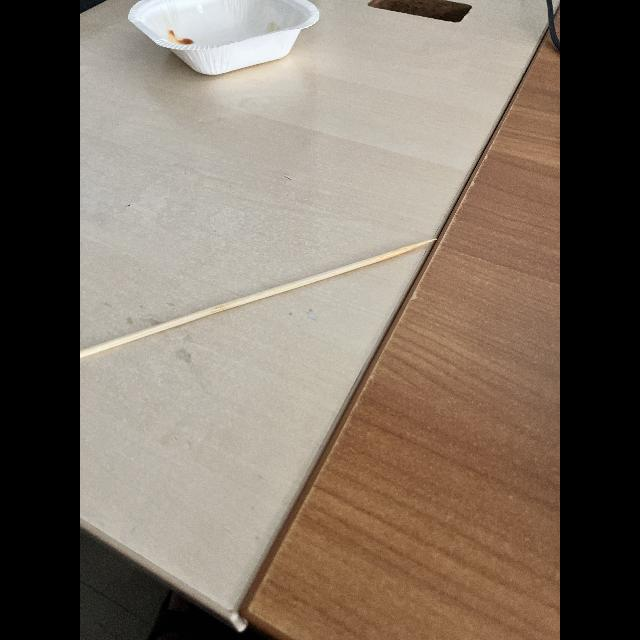cardboard_bowl: (122, 0, 328, 104)
stick: (80, 218, 452, 390)
